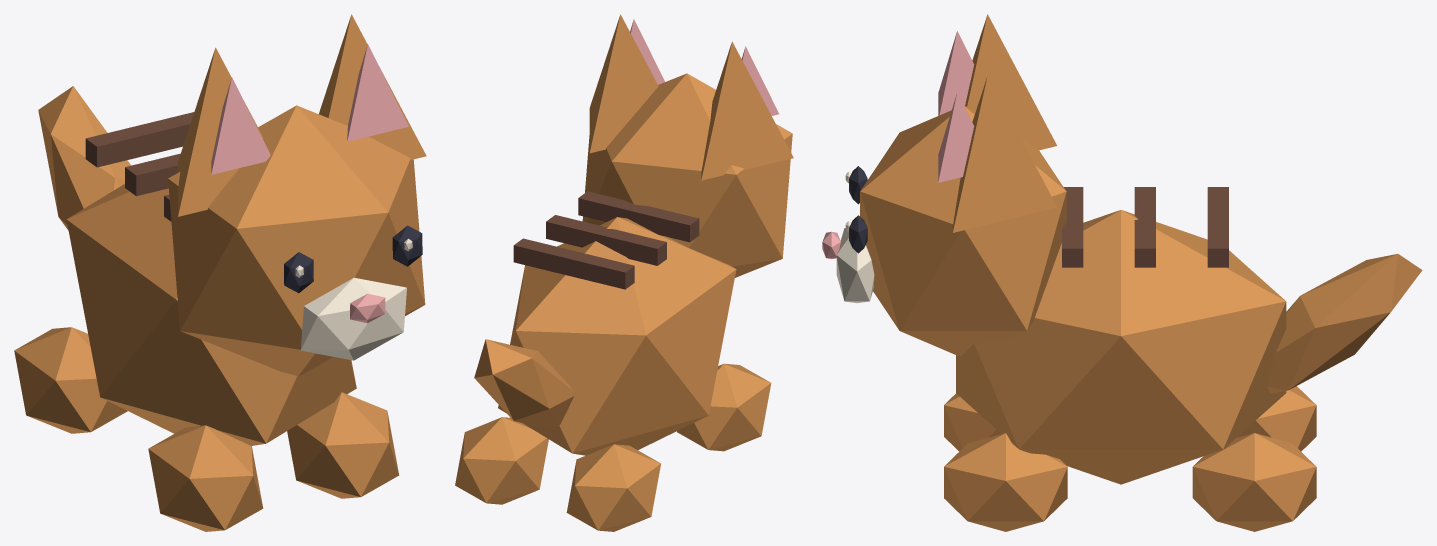
Rendered from pet_cat_tabby.glb.
3 renders of one model, left to right at view 1: azimuth 30°, elevation 25°; view 2: azimuth 150°, elevation 25°; view 3: azimuth 270°, elevation 25°, orthographic. The views are drawn at different scales.
Visible parts, largest first — view 1: head, body, paw, paw.001, back_paw, tail_bob, muzzle, ear, ear.001, stripe.002, ear_inner.001, ear_inner (+4 smaller); view 2: body, head, ear, back_paw, back_paw.001, tail_bob, ear.001, paw, stripe.002, stripe.001, stripe, ear_inner (+1 smaller); view 3: body, head, tail_bob, back_paw.001, paw.001, ear.001, ear, back_paw, ear_inner.001, muzzle, paw, stripe.002 (+3 smaller).
Boxes of the visible parts, bbox=[...] form: head: bbox=[168, 105, 425, 375]; body: bbox=[66, 184, 356, 445]; paw: bbox=[148, 425, 263, 531]; paw.001: bbox=[287, 392, 399, 498]; back_paw: bbox=[14, 327, 127, 433]; tail_bob: bbox=[38, 86, 130, 230]; muzzle: bbox=[300, 277, 406, 360]; ear: bbox=[178, 47, 263, 216]; ear.001: bbox=[319, 14, 426, 159]; stripe.002: bbox=[85, 112, 194, 167]; ear_inner.001: bbox=[347, 44, 408, 141]; ear_inner: bbox=[211, 77, 270, 174]; body: bbox=[498, 217, 736, 455]; head: bbox=[582, 73, 792, 277]; ear: bbox=[701, 41, 793, 180]; back_paw: bbox=[566, 444, 660, 531]; back_paw.001: bbox=[455, 417, 548, 504]; tail_bob: bbox=[474, 339, 574, 430]; ear.001: bbox=[589, 14, 658, 153]; paw: bbox=[677, 363, 771, 451]; stripe.002: bbox=[513, 238, 634, 289]; stripe.001: bbox=[546, 215, 666, 265]; stripe: bbox=[578, 191, 699, 242]; ear_inner: bbox=[741, 46, 778, 115]; body: bbox=[956, 210, 1286, 484]; head: bbox=[860, 105, 1066, 356]; tail_bob: bbox=[1267, 254, 1422, 393]; back_paw.001: bbox=[1192, 433, 1316, 531]; paw.001: bbox=[944, 433, 1067, 531]; ear.001: bbox=[952, 76, 1057, 232]; ear: bbox=[965, 14, 1057, 150]; back_paw: bbox=[1236, 386, 1316, 451]; ear_inner.001: bbox=[938, 92, 974, 182]; muzzle: bbox=[836, 228, 874, 303]; paw: bbox=[944, 393, 1001, 451]; stripe.002: bbox=[1207, 187, 1228, 267].
Size of the model in its own units: 0.4392 by 0.83 by 0.9891.
